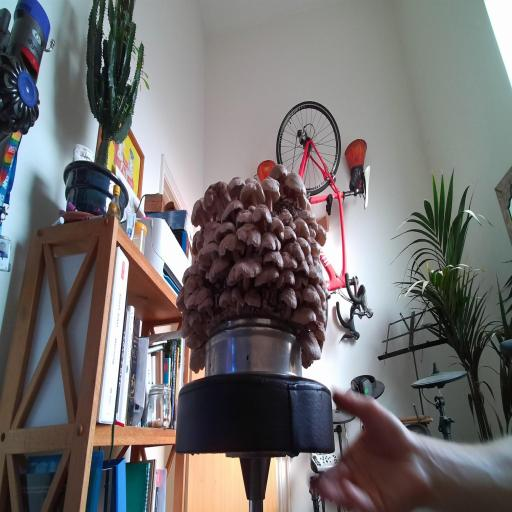Shiitake Mushroom: (191, 168, 243, 228), (250, 166, 290, 213), (260, 154, 300, 198), (294, 324, 328, 370), (173, 265, 211, 305), (233, 214, 266, 260), (179, 278, 218, 316), (216, 192, 249, 235), (183, 196, 216, 236), (246, 197, 277, 236), (201, 252, 238, 284), (248, 261, 286, 292), (217, 228, 247, 266), (228, 258, 262, 291), (192, 239, 225, 269), (208, 215, 242, 244), (238, 175, 266, 210), (179, 305, 205, 339), (254, 228, 285, 255), (306, 295, 331, 328), (278, 284, 299, 322), (300, 233, 327, 262), (302, 317, 332, 343), (279, 237, 310, 262), (288, 303, 320, 327), (176, 260, 205, 285), (283, 168, 307, 198), (298, 281, 326, 306), (309, 221, 333, 249), (271, 266, 299, 290), (293, 230, 316, 259), (227, 283, 248, 314), (181, 329, 209, 352), (187, 345, 208, 375), (198, 214, 224, 237), (294, 206, 319, 226), (310, 281, 330, 305), (267, 213, 286, 237), (296, 348, 314, 372), (228, 175, 245, 199), (197, 292, 214, 316), (262, 250, 284, 268), (294, 217, 311, 239), (217, 286, 233, 309), (174, 286, 187, 314), (244, 287, 262, 307), (199, 228, 219, 246), (292, 269, 309, 290), (234, 208, 255, 225), (278, 206, 294, 227), (281, 251, 298, 270), (192, 232, 208, 252), (190, 228, 201, 257), (308, 265, 323, 284), (309, 256, 325, 272), (303, 251, 317, 269), (307, 217, 322, 233), (295, 258, 309, 275), (284, 225, 297, 243), (319, 280, 332, 297), (197, 263, 210, 279), (295, 193, 307, 210), (246, 204, 258, 213), (320, 299, 328, 312), (306, 199, 312, 212)
